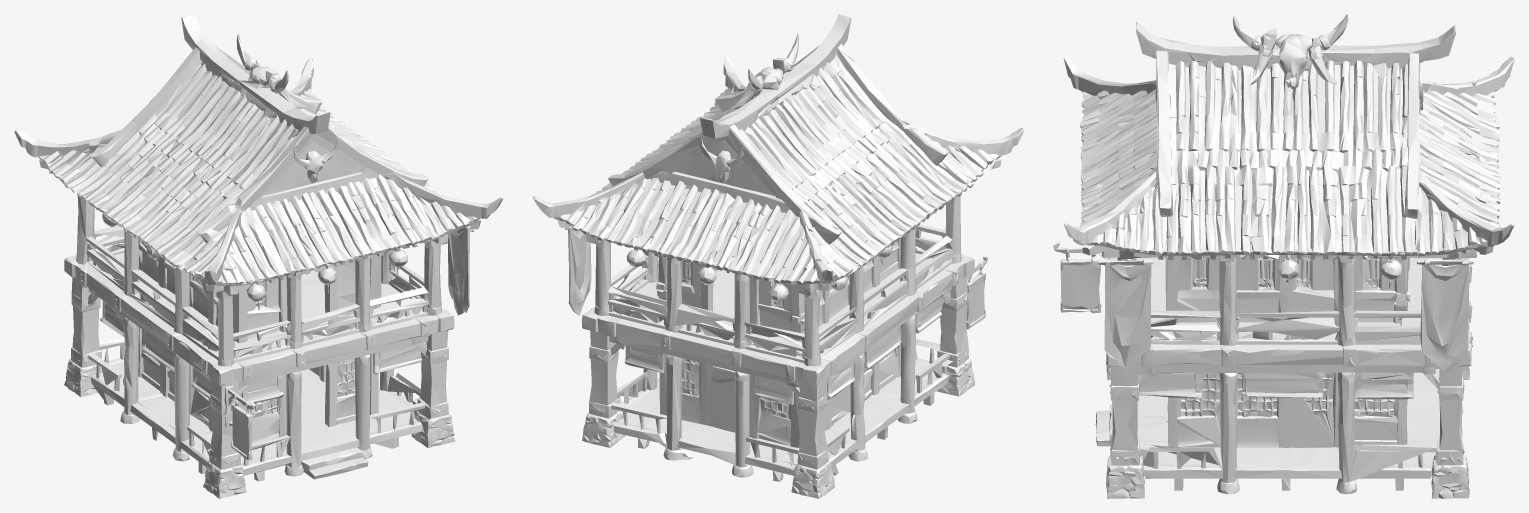
The model's file is house_bal_b.glb.
The picture shows the model from 3 angles, left to right: view 1: azimuth 30°, elevation 25°; view 2: azimuth 150°, elevation 25°; view 3: azimuth 270°, elevation 25°; orthographic projection. The views are drawn at different scales.
Visible parts, largest first — view 1: house_bal_b; view 2: house_bal_b; view 3: house_bal_b.
Part boxes in pixels (box(x1,y1,x2,y2)): house_bal_b: box(14, 14, 503, 498); house_bal_b: box(532, 14, 1024, 498); house_bal_b: box(1053, 14, 1514, 498).
Bounding box in the file's own units: 7.8 × 9 × 8.96.
Materials: 1 (1 with a texture image).
